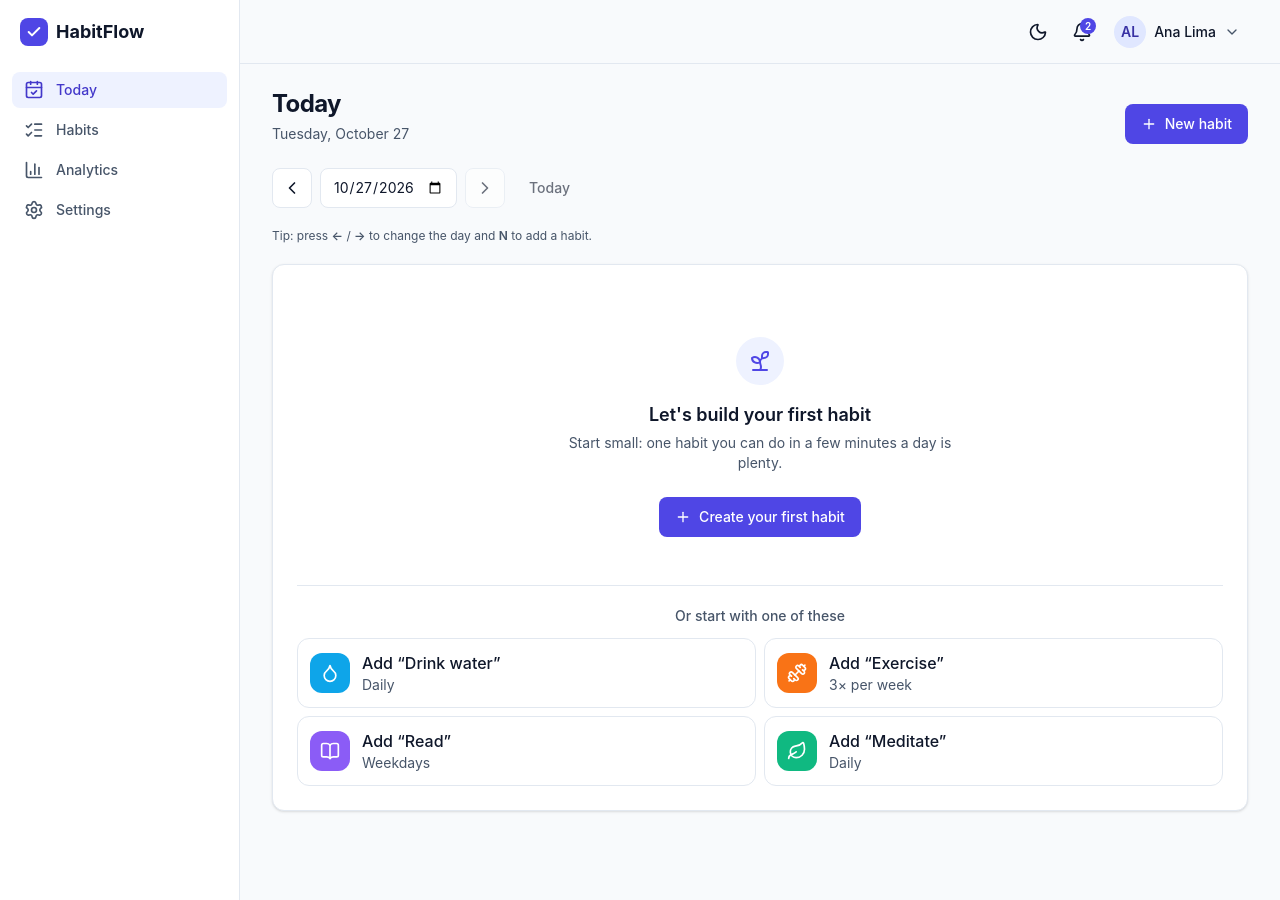
Test: marks one notification read
Click the button named "Notifications, 2 unread".
click(1082, 32)  # box [1062, 12, 1102, 52]
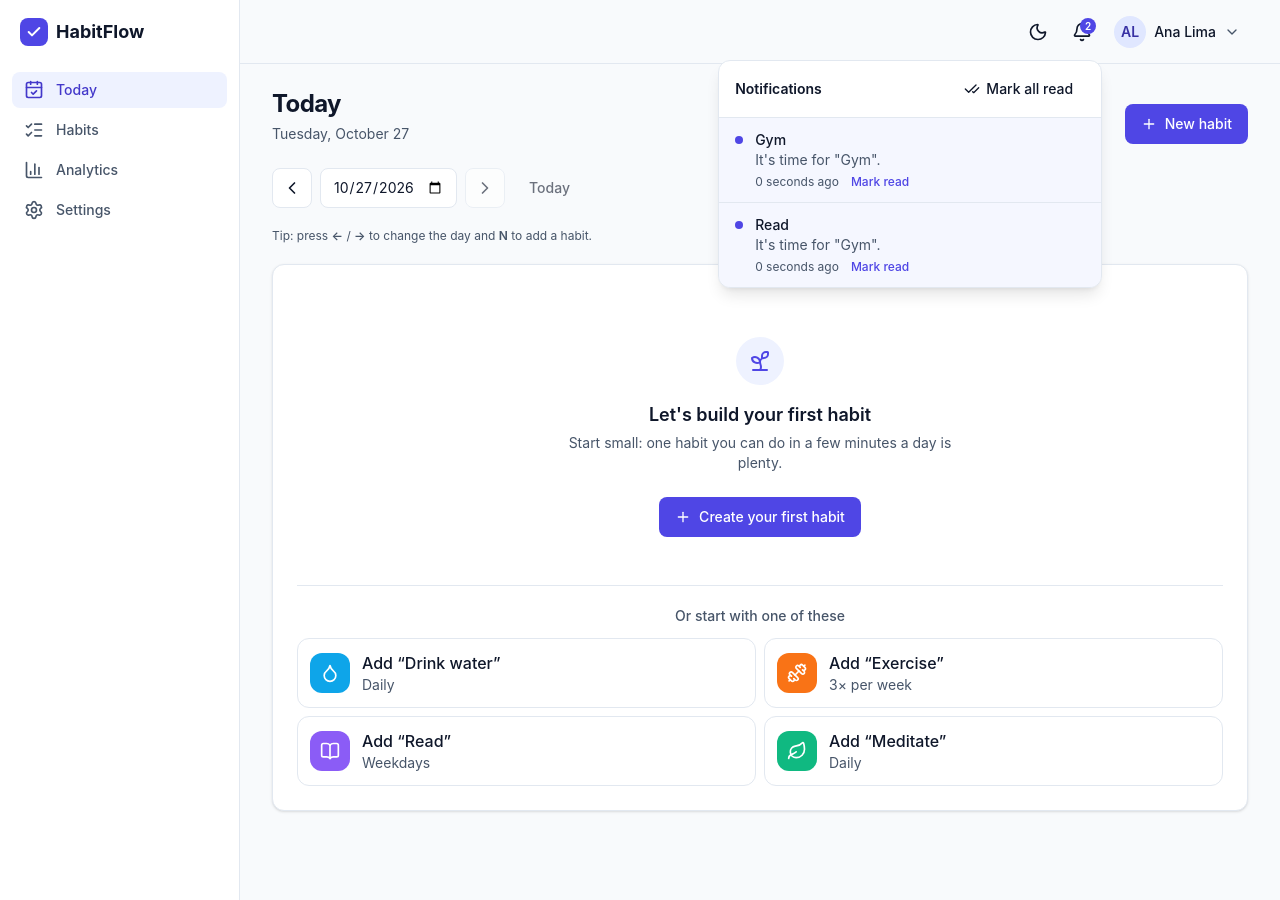
Click the button named "Mark read: Gym".
click(880, 182)  # box [851, 174, 909, 190]
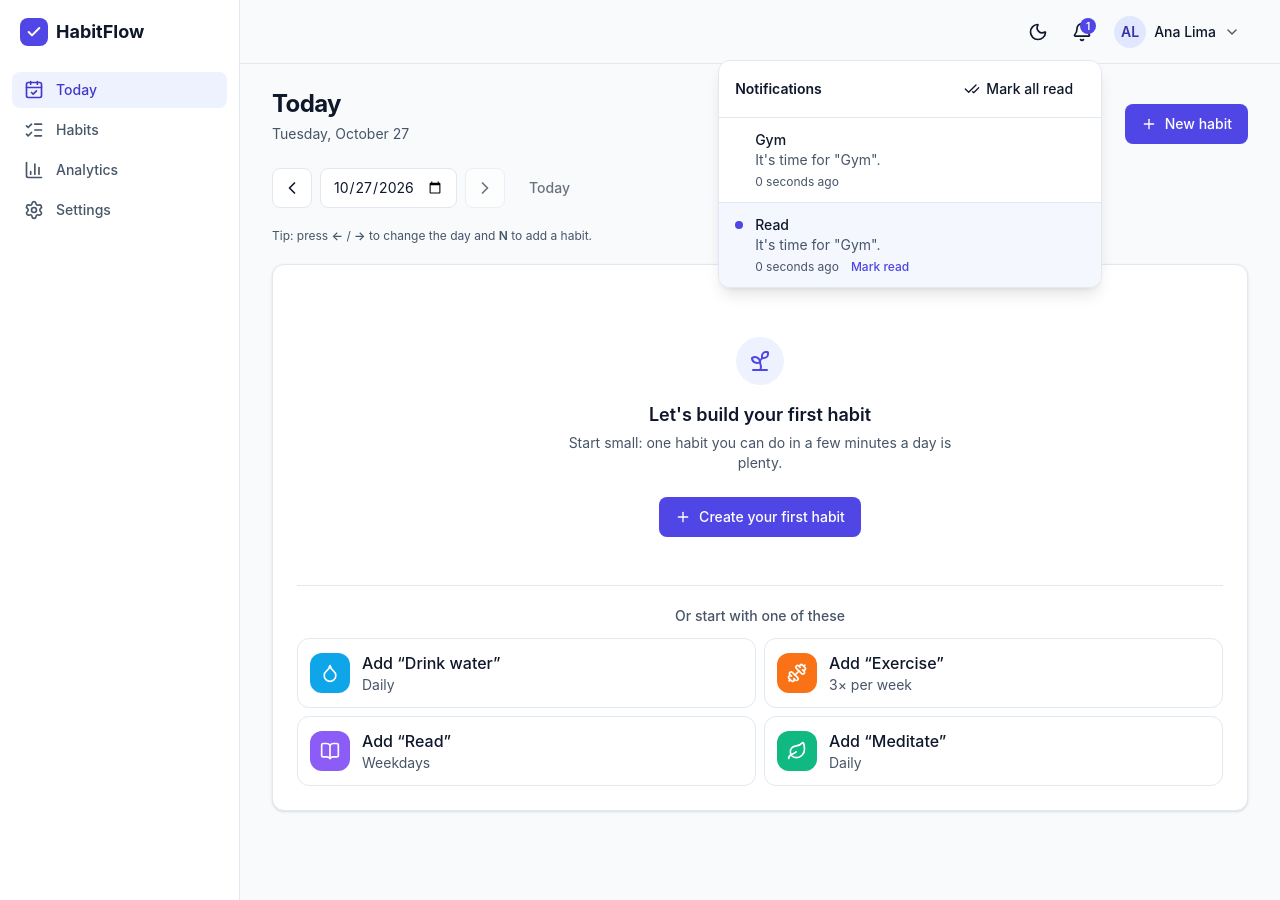
Now the button named "Notifications, 1 unread" is shown, box [1062, 12, 1102, 52]
